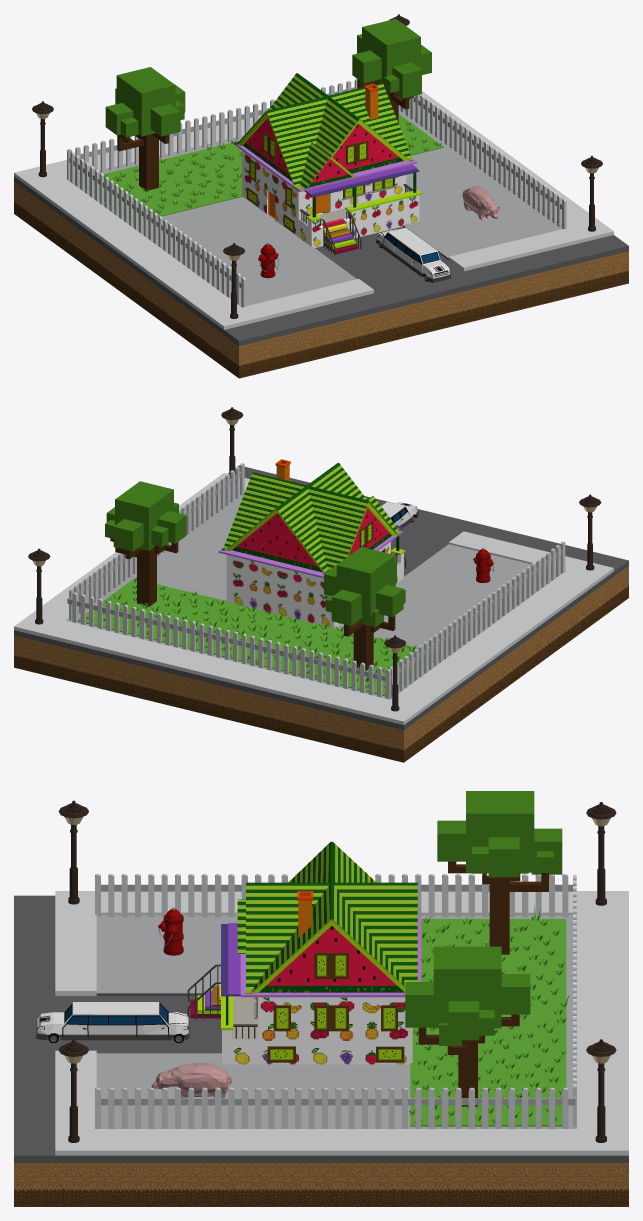
3 views of the same model, one above another, from view 1: azimuth 30°, elevation 25°; view 2: azimuth 150°, elevation 25°; view 3: azimuth 270°, elevation 25° (orthographic). The views are drawn at different scales.
Visible parts, largest first — view 1: Cube.004, Cube.1063, VEHICLES_LIMOUSINE, ANIMAL_HIPOPOTAMO, OBJRANDOM_FIRE_HYDRANT; view 2: Cube.004, Cube.1063, VEHICLES_LIMOUSINE, OBJRANDOM_FIRE_HYDRANT; view 3: Cube.004, Cube.1063, VEHICLES_LIMOUSINE, ANIMAL_HIPOPOTAMO, OBJRANDOM_FIRE_HYDRANT.
Part boxes in pixels (x1,y1,x2,y2): Cube.004: [14, 14, 628, 378]; Cube.1063: [233, 73, 422, 255]; VEHICLES_LIMOUSINE: [375, 227, 451, 282]; ANIMAL_HIPOPOTAMO: [462, 186, 499, 219]; OBJRANDOM_FIRE_HYDRANT: [258, 243, 278, 278]; Cube.004: [14, 407, 628, 762]; Cube.1063: [218, 459, 406, 627]; VEHICLES_LIMOUSINE: [381, 502, 418, 527]; OBJRANDOM_FIRE_HYDRANT: [473, 547, 493, 582]; Cube.004: [14, 791, 628, 1206]; Cube.1063: [187, 841, 421, 1064]; VEHICLES_LIMOUSINE: [36, 1002, 189, 1043]; ANIMAL_HIPOPOTAMO: [151, 1063, 231, 1098]; OBJRANDOM_FIRE_HYDRANT: [158, 907, 183, 955].
Size of the model in its own units: 4000 by 1600 by 4000.
33 materials, 5 textured.
